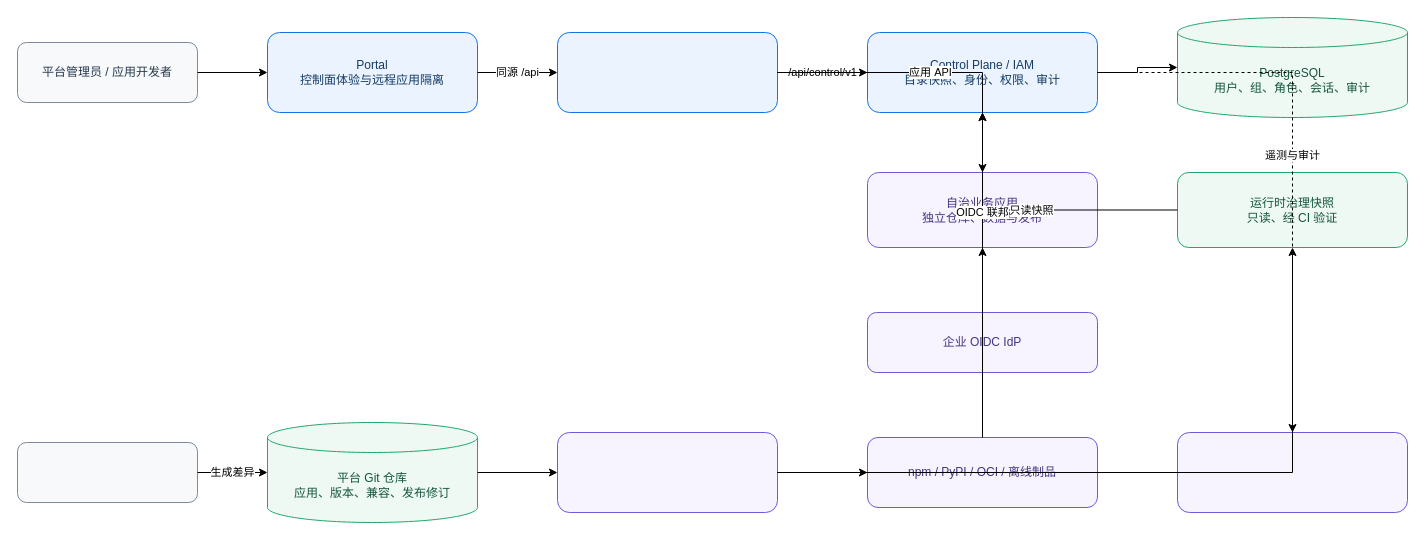
Image size: 1425x540. Some labels were removed from this diagram. The shapes that lost their labels are listed below. From the top down, each one's centre as x and y in pixels, then its label:
[667,72]: Gateway / BFF 会话内省、RBAC、默认拒绝
[107,472]: 本地 CLI
[667,472]: CI 治理门禁 Schema、兼容、签名、SBOM、漏洞
[1292,472]: 现有可观测与告警平台 OTLP、日志、Webhook
